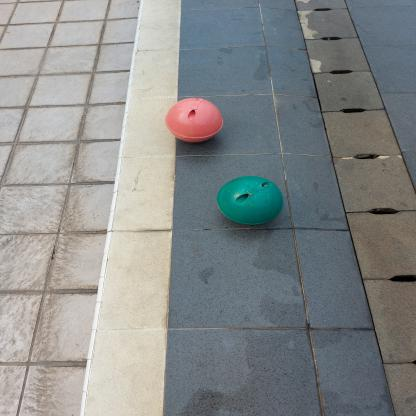green_buoy: (214, 174, 286, 226)
red_buoy: (164, 98, 226, 146)
